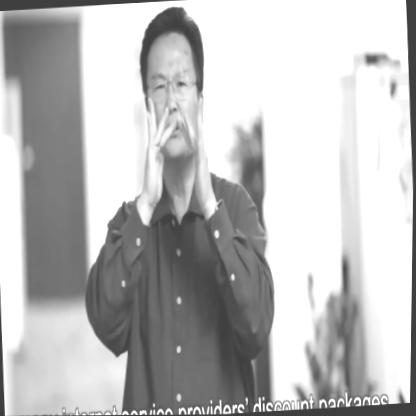Internet: (138, 81, 217, 212)
